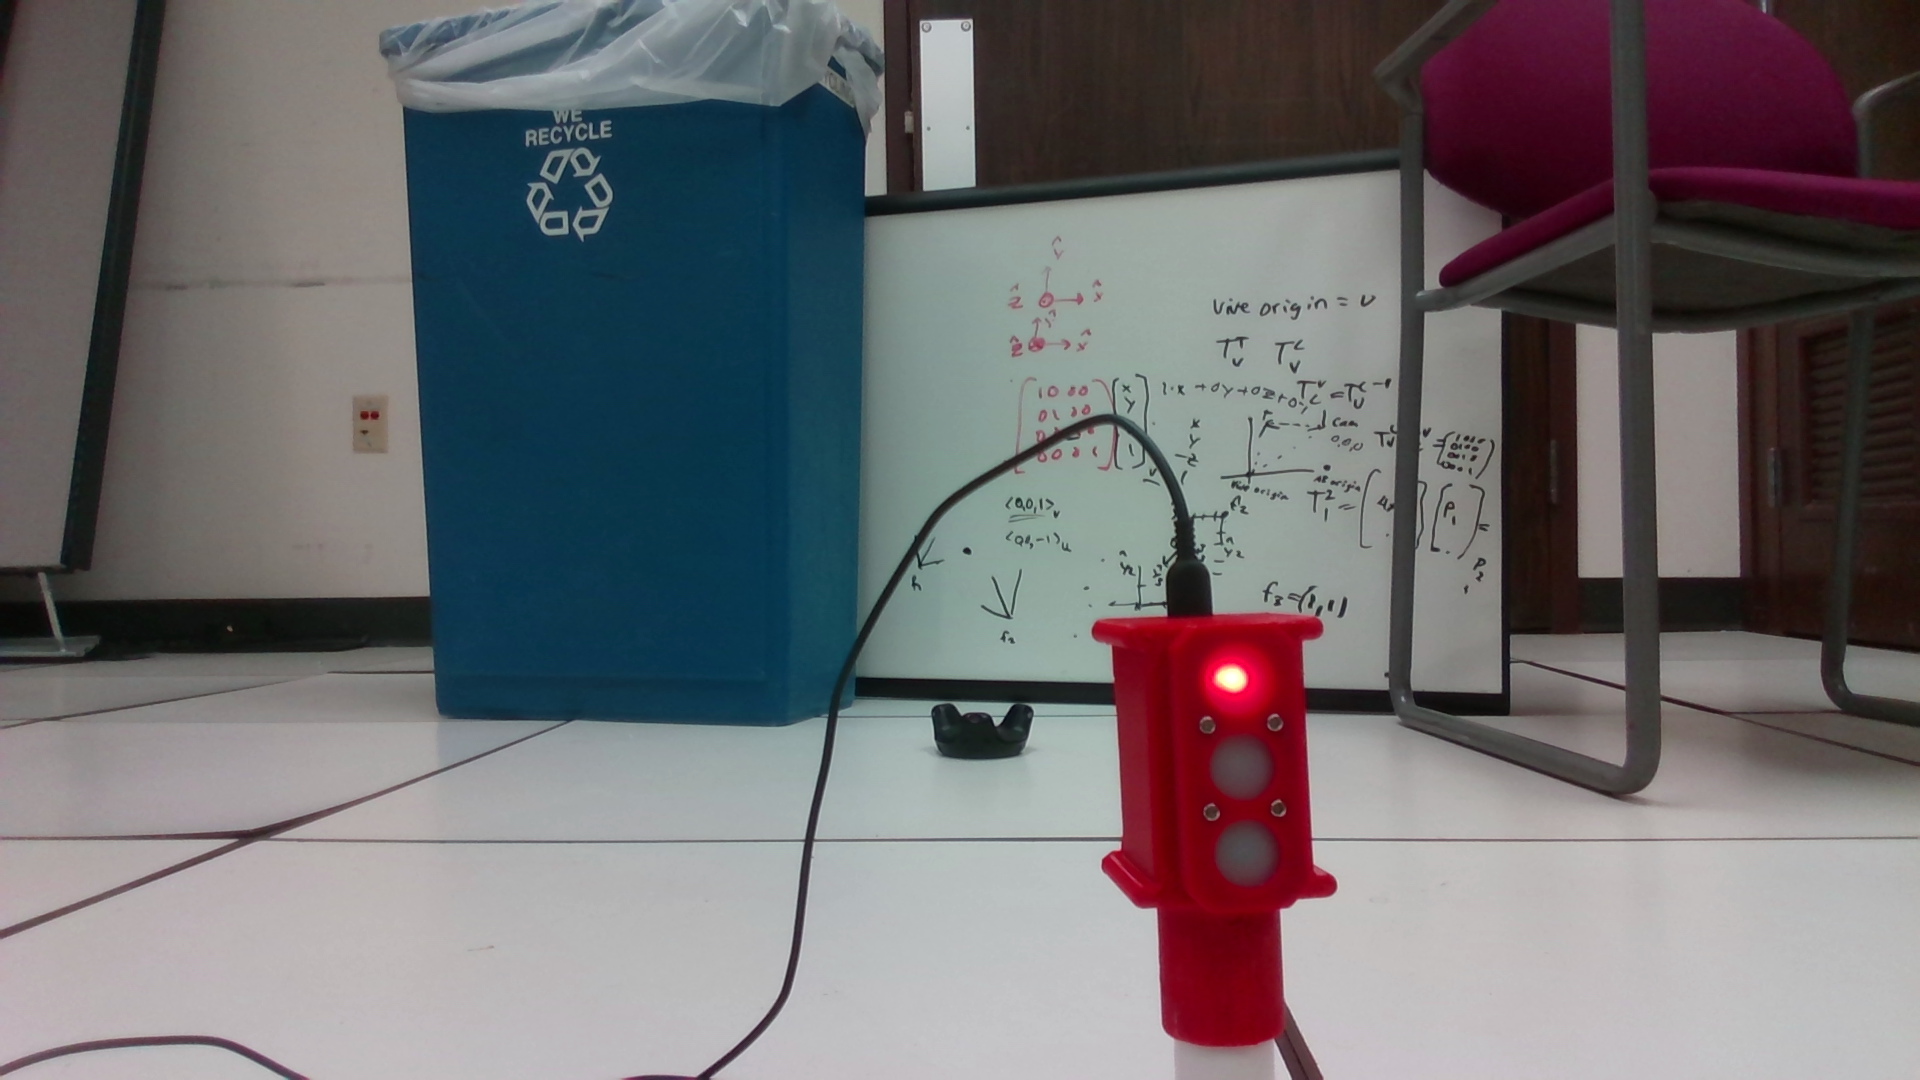stoplight: (1091, 611, 1344, 1044)
